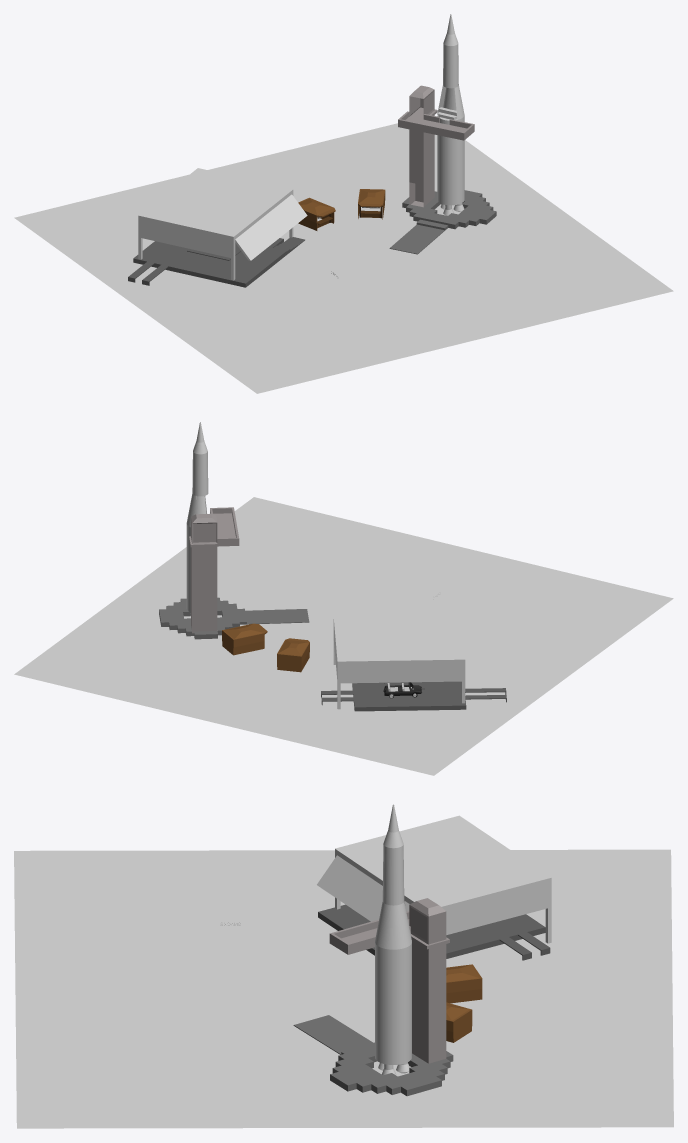
The model's file is HistoryProject.fbx.
The picture shows the model from 3 angles, top to bottom: view 1: azimuth 30°, elevation 25°; view 2: azimuth 150°, elevation 25°; view 3: azimuth 270°, elevation 25°; orthographic projection. The views are drawn at different scales.
Parts seen in each view (by area): view 1: Floor, Cube, KenCarFloor, Satffold, Cylinder.006, RocketGroundingPlat, Cube.004; view 2: Floor, Cube, Satffold, KenCarFloor, RocketGroundingPlat, Cylinder.006, Cube.003, Cube.004; view 3: Floor, Cube, Cylinder.006, Satffold, RocketGroundingPlat, KenCarFloor, Cube.004, Cube.003.
Boxes of the visible parts, x1,y1,x2,y2 form: Floor: [14, 123, 673, 393]; Cube: [138, 168, 307, 280]; KenCarFloor: [128, 237, 304, 287]; Satffold: [398, 85, 474, 207]; Cylinder.006: [437, 14, 464, 215]; RocketGroundingPlat: [389, 190, 496, 254]; Cube.004: [298, 197, 335, 230]; Floor: [14, 497, 673, 775]; Cube: [333, 614, 465, 709]; Satffold: [189, 507, 239, 633]; KenCarFloor: [321, 681, 506, 711]; RocketGroundingPlat: [159, 597, 309, 639]; Cylinder.006: [186, 422, 208, 615]; Cube.003: [222, 623, 267, 655]; Cube.004: [277, 638, 309, 672]; Floor: [14, 849, 673, 1128]; Cube: [317, 815, 551, 943]; Cylinder.006: [375, 804, 411, 1075]; Satffold: [329, 898, 449, 1063]; RocketGroundingPlat: [293, 1015, 453, 1096]; KenCarFloor: [318, 904, 550, 960]; Cube.004: [446, 964, 482, 1003]; Cube.003: [446, 1002, 472, 1042].
Size of the model in its own units: 3115 by 1430 by 3115.
